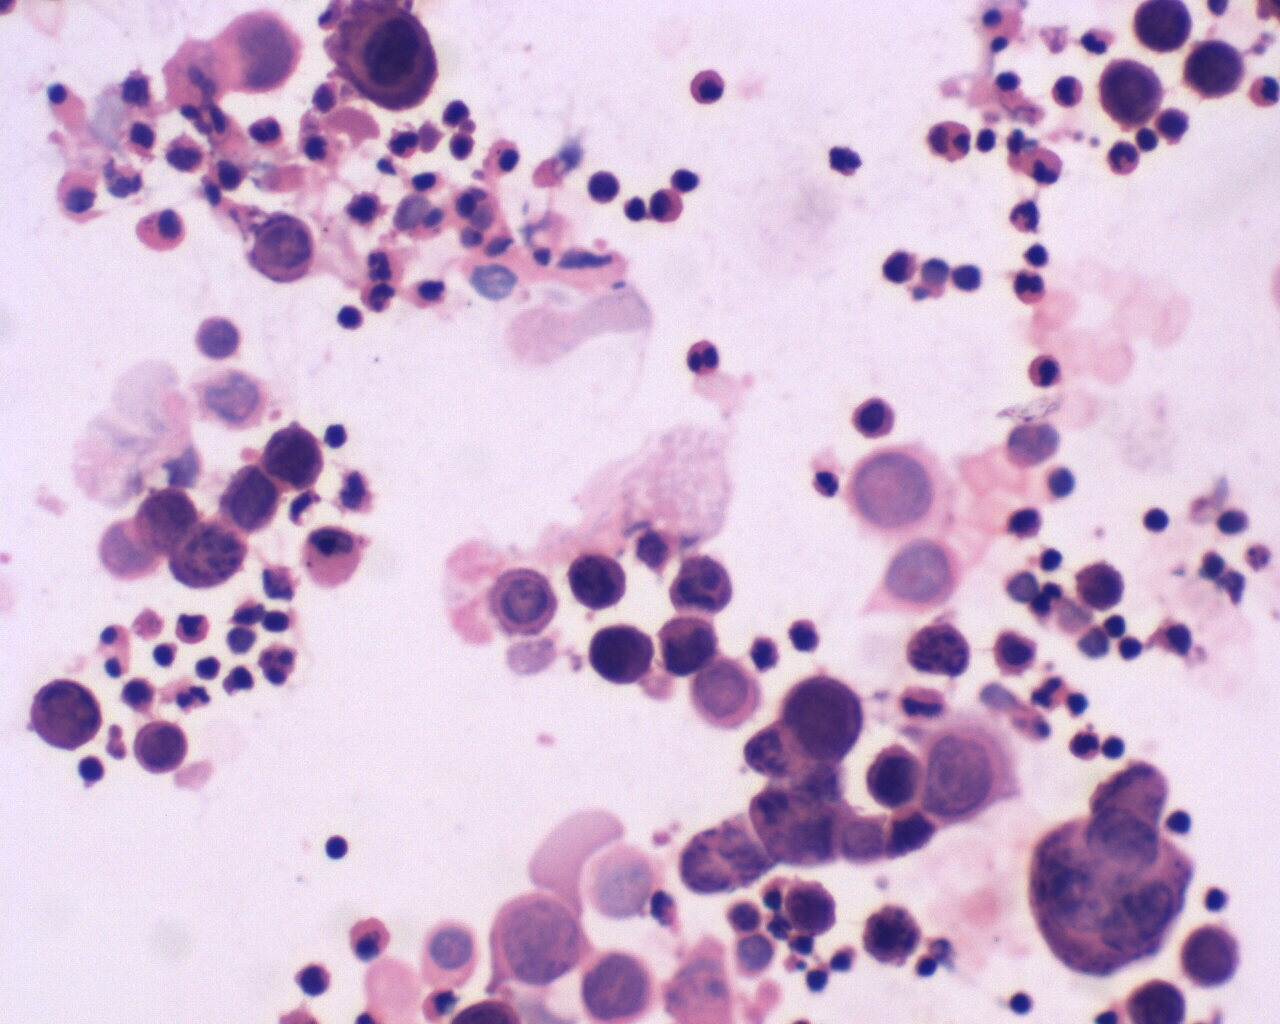ab: (327, 5, 440, 113), (779, 674, 866, 768), (486, 563, 561, 650), (26, 679, 107, 757), (249, 210, 319, 289), (1097, 57, 1173, 129), (583, 624, 659, 692), (264, 414, 326, 492), (223, 463, 283, 536), (864, 904, 929, 971), (1183, 39, 1249, 103), (1181, 920, 1242, 987), (567, 548, 628, 614), (657, 616, 721, 679), (863, 743, 921, 809), (131, 721, 193, 778), (781, 878, 838, 938), (1075, 554, 1127, 613)
lymph: (315, 413, 354, 452), (1159, 805, 1196, 842), (331, 298, 368, 336), (1005, 984, 1043, 1020), (319, 833, 357, 863), (1034, 542, 1067, 577), (1140, 504, 1173, 535)
meso: (126, 200, 197, 256), (650, 185, 685, 226)
neutro: (1049, 69, 1091, 116), (167, 611, 212, 651), (242, 112, 288, 149), (1007, 195, 1045, 238), (1065, 724, 1103, 764), (684, 338, 722, 378), (1107, 134, 1141, 174), (1013, 269, 1046, 305), (809, 466, 842, 503)
